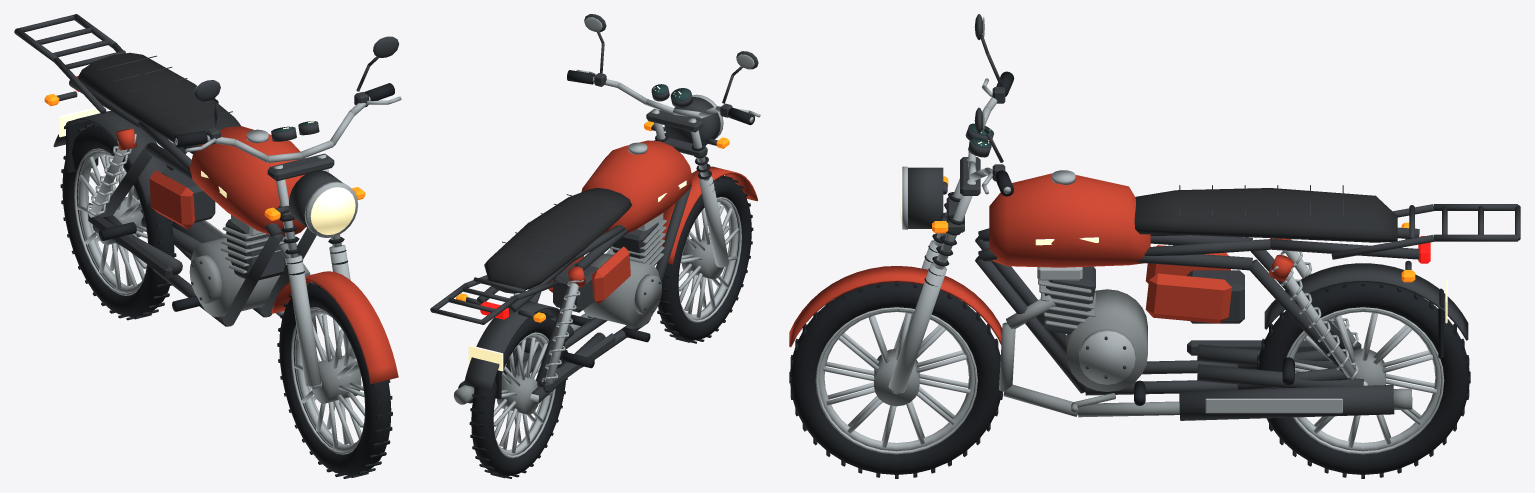
Rendered from motorcycle.glb.
3 renders of one model, left to right at view 1: azimuth 30°, elevation 25°; view 2: azimuth 150°, elevation 25°; view 3: azimuth 270°, elevation 25°, orthographic. The views are drawn at different scales.
Visible parts, largest first — view 1: body_Graphite_frame, front_wheel, rear_wheel, body_Saddle_vinyl, tank, body_Coral_lacquer, body_Aluminium, body_Engine_alloy, handlebar, body_Lamp_ivory, body_Black_rubber, body_Amber_lamp; view 2: body_Graphite_frame, front_wheel, rear_wheel, body_Saddle_vinyl, tank, body_Engine_alloy, body_Aluminium, handlebar, body_Coral_lacquer, body_Black_rubber, body_Lamp_ivory, body_Amber_lamp; view 3: body_Graphite_frame, front_wheel, rear_wheel, tank, body_Saddle_vinyl, body_Aluminium, body_Engine_alloy, body_Coral_lacquer, handlebar, body_Black_rubber.
Part boxes in pixels (<box>): body_Graphite_frame: <box>14,14,342,326</box>; front_wheel: <box>277,282,392,478</box>; rear_wheel: <box>60,123,176,320</box>; body_Saddle_vinyl: <box>77,52,240,154</box>; tank: <box>190,126,305,236</box>; body_Coral_lacquer: <box>116,128,398,383</box>; body_Aluminium: <box>87,129,360,386</box>; body_Engine_alloy: <box>133,188,317,333</box>; handlebar: <box>174,36,401,162</box>; body_Lamp_ivory: <box>59,107,355,234</box>; body_Black_rubber: <box>66,120,347,311</box>; body_Amber_lamp: <box>44,94,365,220</box>; body_Graphite_frame: <box>430,97,720,403</box>; front_wheel: <box>657,175,753,343</box>; rear_wheel: <box>469,311,567,478</box>; body_Saddle_vinyl: <box>484,188,631,293</box>; tank: <box>581,140,692,234</box>; body_Engine_alloy: <box>453,219,666,404</box>; body_Aluminium: <box>505,94,729,383</box>; handlebar: <box>567,14,760,125</box>; body_Coral_lacquer: <box>548,166,757,303</box>; body_Black_rubber: <box>474,133,714,399</box>; body_Lamp_ivory: <box>468,180,686,371</box>; body_Amber_lamp: <box>456,121,729,322</box>; body_Graphite_frame: <box>908,157,1520,420</box>; front_wheel: <box>789,282,1002,478</box>; rear_wheel: <box>1257,282,1470,478</box>; tank: <box>989,173,1150,267</box>; body_Saddle_vinyl: <box>1134,188,1397,242</box>; body_Aluminium: <box>888,157,1358,413</box>; body_Engine_alloy: <box>999,279,1412,417</box>; body_Coral_lacquer: <box>789,238,1293,347</box>; handlebar: <box>965,14,1014,196</box>; body_Black_rubber: <box>924,192,1443,405</box>.
Size of the model in its own units: 0.7401 by 1.25 by 2.02.
